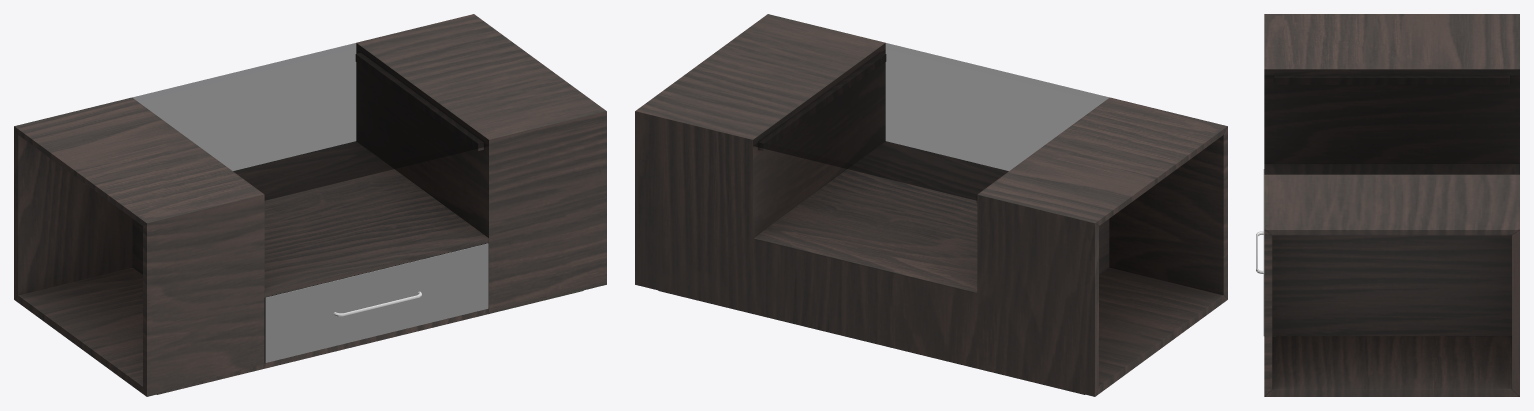
Rendered from CenterTable_1.fbx.
3 views of the same model, side by side, from view 1: azimuth 30°, elevation 25°; view 2: azimuth 150°, elevation 25°; view 3: azimuth 270°, elevation 25° (orthographic). The views are drawn at different scales.
Parts seen in each view (by area): view 1: center_table_1; view 2: center_table_1; view 3: center_table_1.
Part boxes in pixels (x1,y1,x2,y2): center_table_1: (14, 14, 606, 396); center_table_1: (635, 14, 1227, 396); center_table_1: (1256, 14, 1519, 396).
Size of the model in its own units: 120 by 45 by 61.94.
4 materials, 1 textured.
